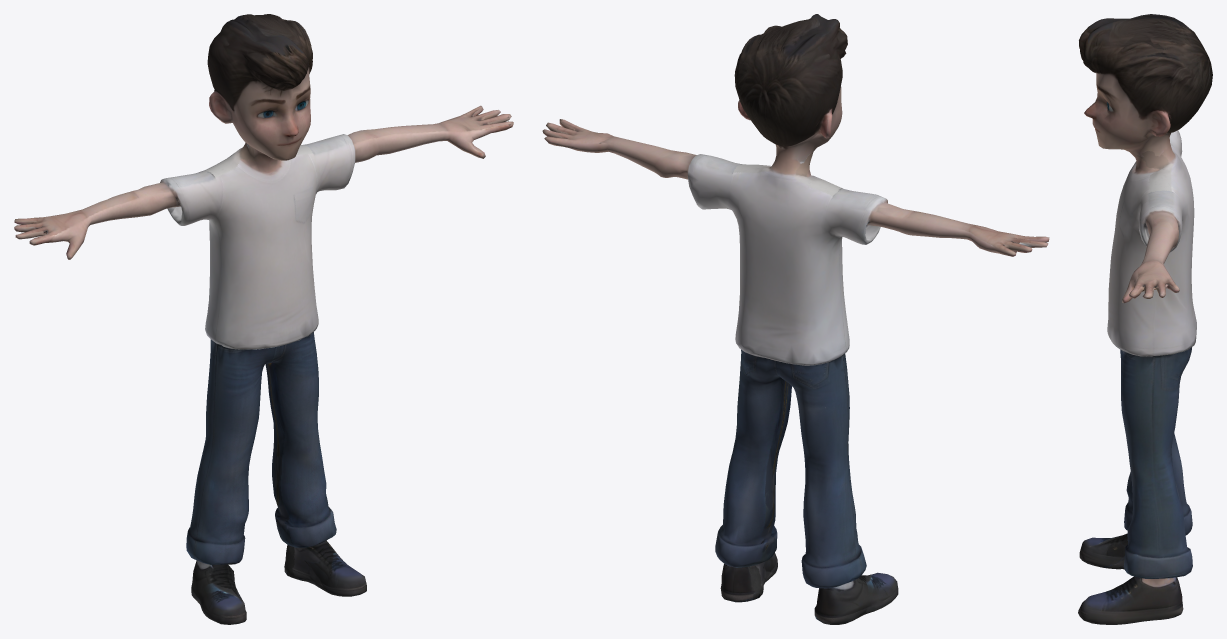
Rendered from donogan.obj.
The picture shows the model from 3 angles, left to right: view 1: azimuth 30°, elevation 25°; view 2: azimuth 150°, elevation 25°; view 3: azimuth 270°, elevation 25°; orthographic projection.
Parts seen in each view (by area): view 1: model; view 2: model; view 3: model.
Boxes of the visible parts, x1,y1,x2,y2 form: model: [14, 14, 513, 624]; model: [542, 14, 1049, 624]; model: [1078, 14, 1212, 624].
Bounding box in the file's own units: 1.81 × 1.99 × 0.4278.
